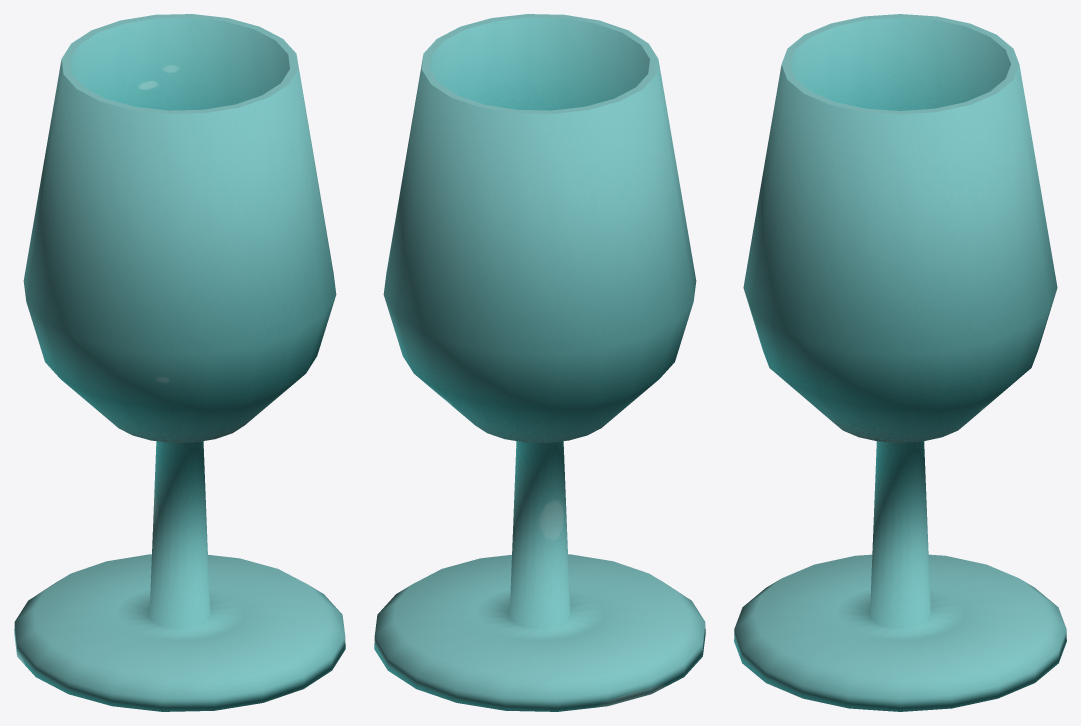
The model's file is WineGlass_1.fbx.
3 renders of one model, left to right at view 1: azimuth 30°, elevation 25°; view 2: azimuth 150°, elevation 25°; view 3: azimuth 270°, elevation 25°, orthographic.
Parts seen in each view (by area): view 1: Wine glass 1 .002; view 2: Wine glass 1 .002; view 3: Wine glass 1 .002.
Boxes of the visible parts, x1,y1,x2,y2 form: Wine glass 1 .002: [14, 14, 345, 711]; Wine glass 1 .002: [374, 14, 705, 711]; Wine glass 1 .002: [734, 14, 1066, 711].
Size of the model in its own units: 27.27 by 52.2 by 27.27.
